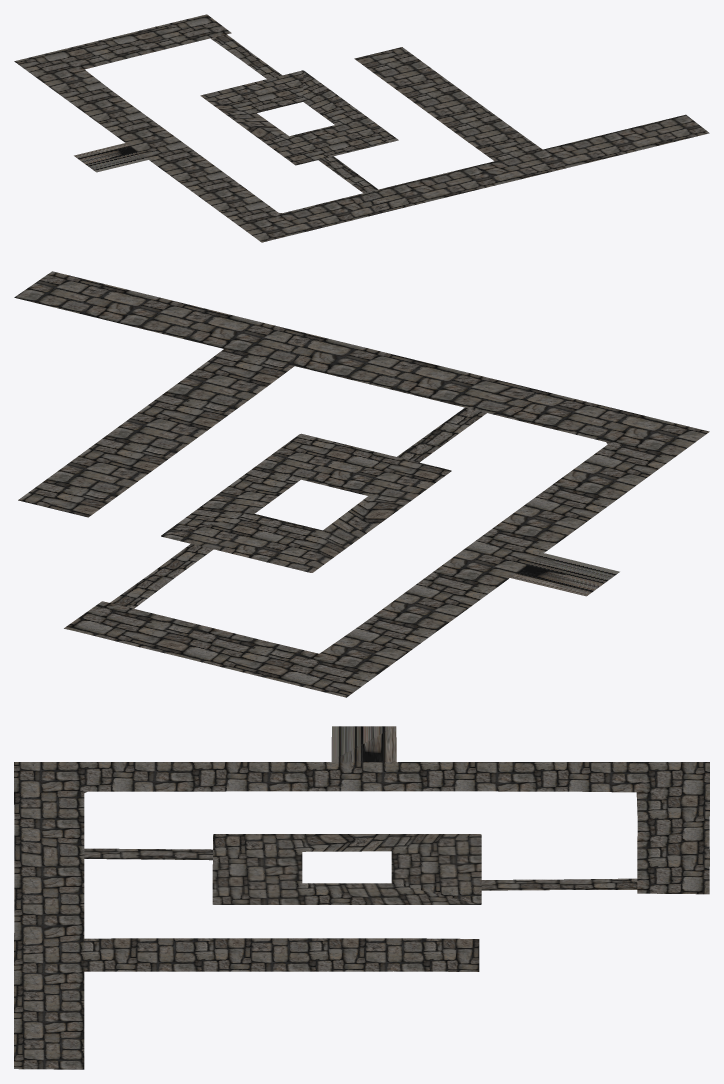
File: EdgeWater.FBX
3 renders of one model, top to bottom at view 1: azimuth 30°, elevation 25°; view 2: azimuth 150°, elevation 25°; view 3: azimuth 270°, elevation 25°, orthographic. The views are drawn at different scales.
Parts seen in each view (by area): view 1: EdgeWater; view 2: EdgeWater; view 3: EdgeWater.
Boxes of the visible parts, x1=… form: EdgeWater: x1=14, y1=14, x2=709, y2=242; EdgeWater: x1=14, y1=271, x2=709, y2=697; EdgeWater: x1=14, y1=726, x2=709, y2=1069.
Bounding box in the file's own units: 4160 × 5.32 × 3561.
